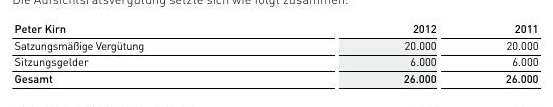table: (0, 0, 553, 107)
